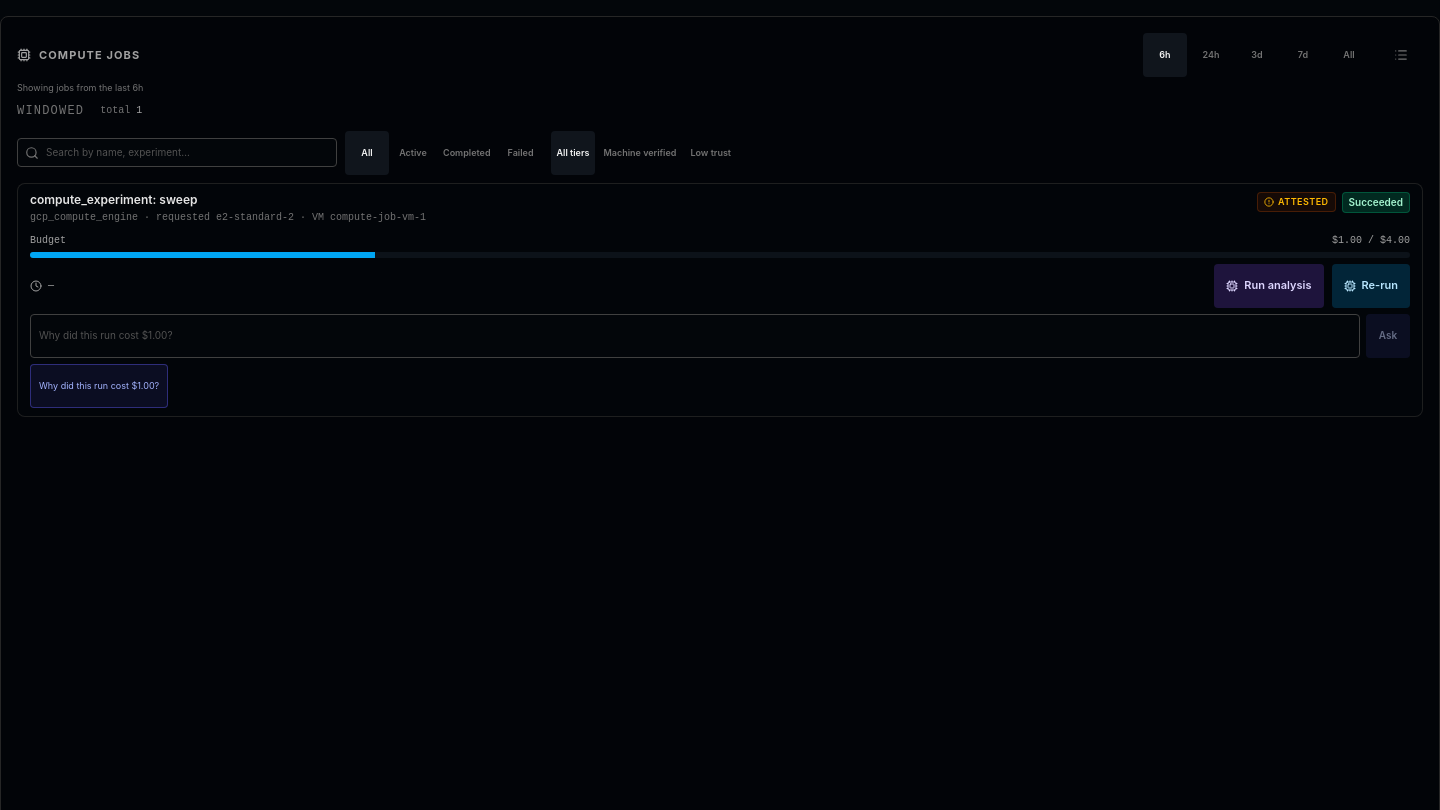
Test: ComputeJobsPanel render + kill › run analysis shows upgraded feedback and refreshes the job list
Click the button "Run analysis".
click(1269, 286)  # box top-left (1214, 264), bottom-right (1324, 308)
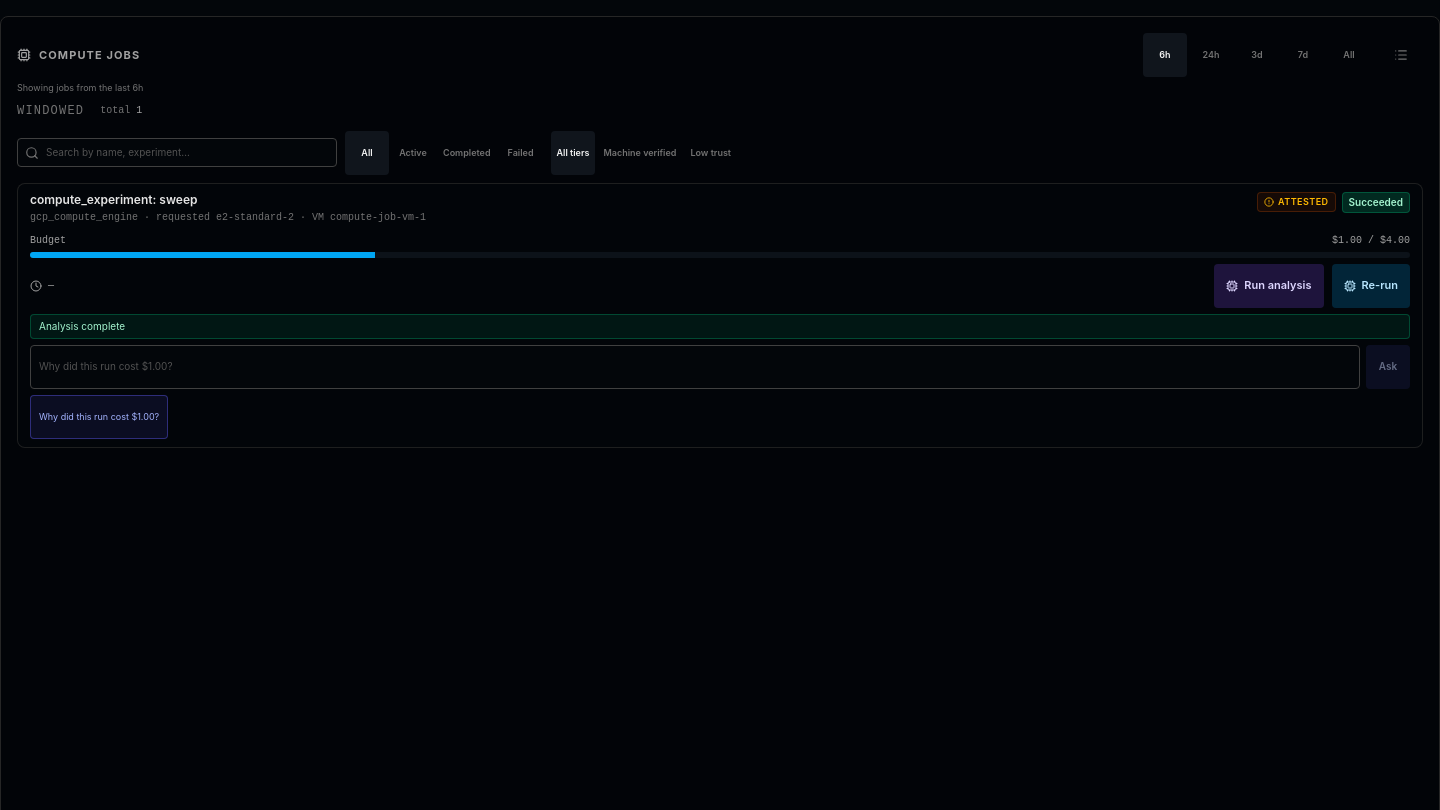
Expected: the text "Analysis complete" is shown, top-left (30, 314), bottom-right (1410, 338)
